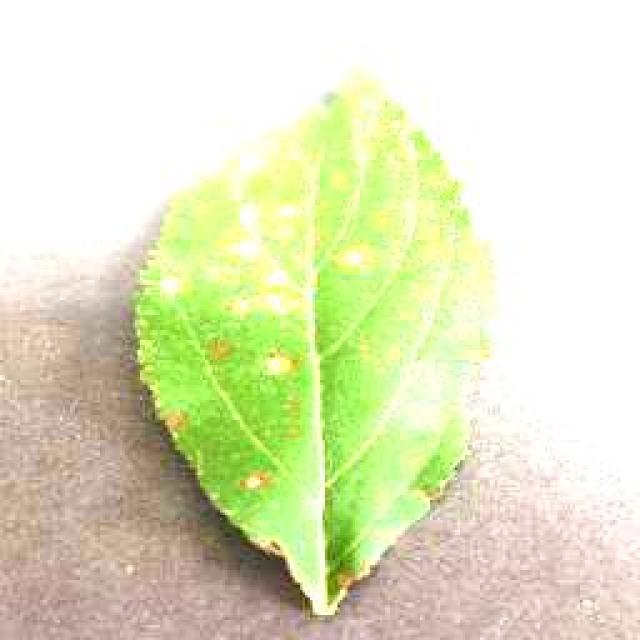apple healthy: (125, 70, 497, 618)
